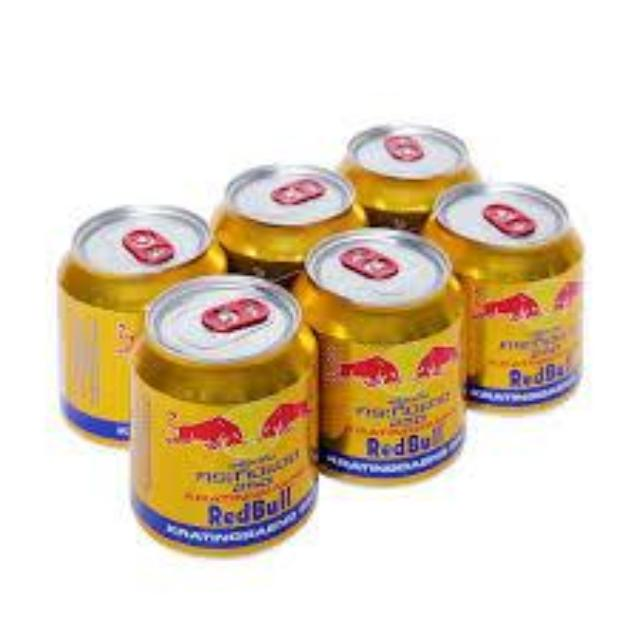aba de lata: (116, 216, 178, 274), (481, 197, 542, 247), (341, 240, 403, 284), (270, 170, 328, 210), (381, 128, 431, 164)
lata: (122, 265, 318, 557), (304, 220, 466, 482), (58, 200, 218, 440), (427, 185, 583, 415), (216, 162, 368, 286), (350, 116, 474, 248)
